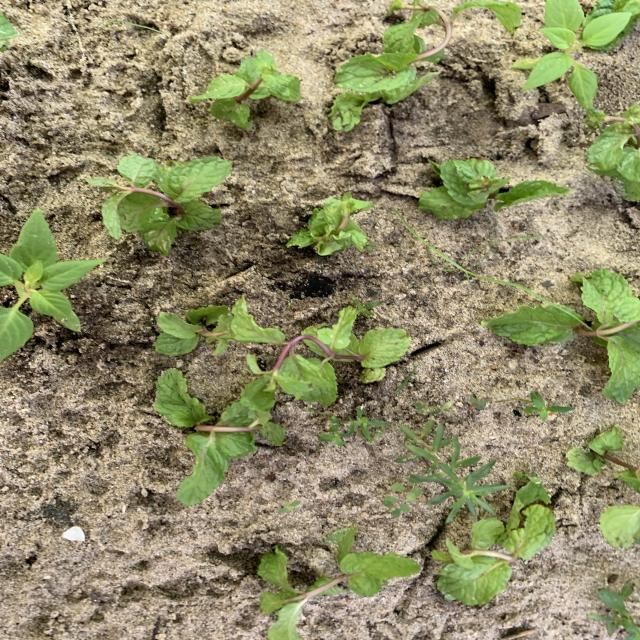crop: (333, 2, 521, 131), (486, 272, 639, 402), (230, 300, 411, 405), (257, 528, 419, 639), (156, 370, 284, 504), (432, 475, 553, 604), (89, 155, 231, 254), (423, 159, 569, 219), (189, 51, 299, 128), (577, 90, 639, 199), (287, 193, 373, 255), (567, 427, 639, 491), (154, 305, 233, 356), (1, 13, 16, 51)
weed: (0, 210, 104, 359), (511, 0, 632, 112), (402, 215, 544, 299), (395, 420, 510, 522), (318, 408, 390, 446), (589, 585, 639, 639), (383, 480, 421, 515), (525, 393, 573, 419), (350, 296, 378, 315), (396, 368, 415, 391), (415, 402, 451, 414), (279, 500, 299, 511), (470, 396, 486, 408)
